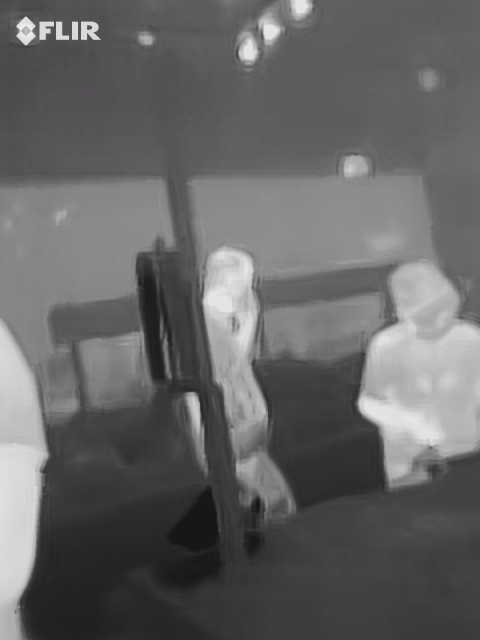head: (383, 257, 464, 321), (198, 245, 254, 309)
